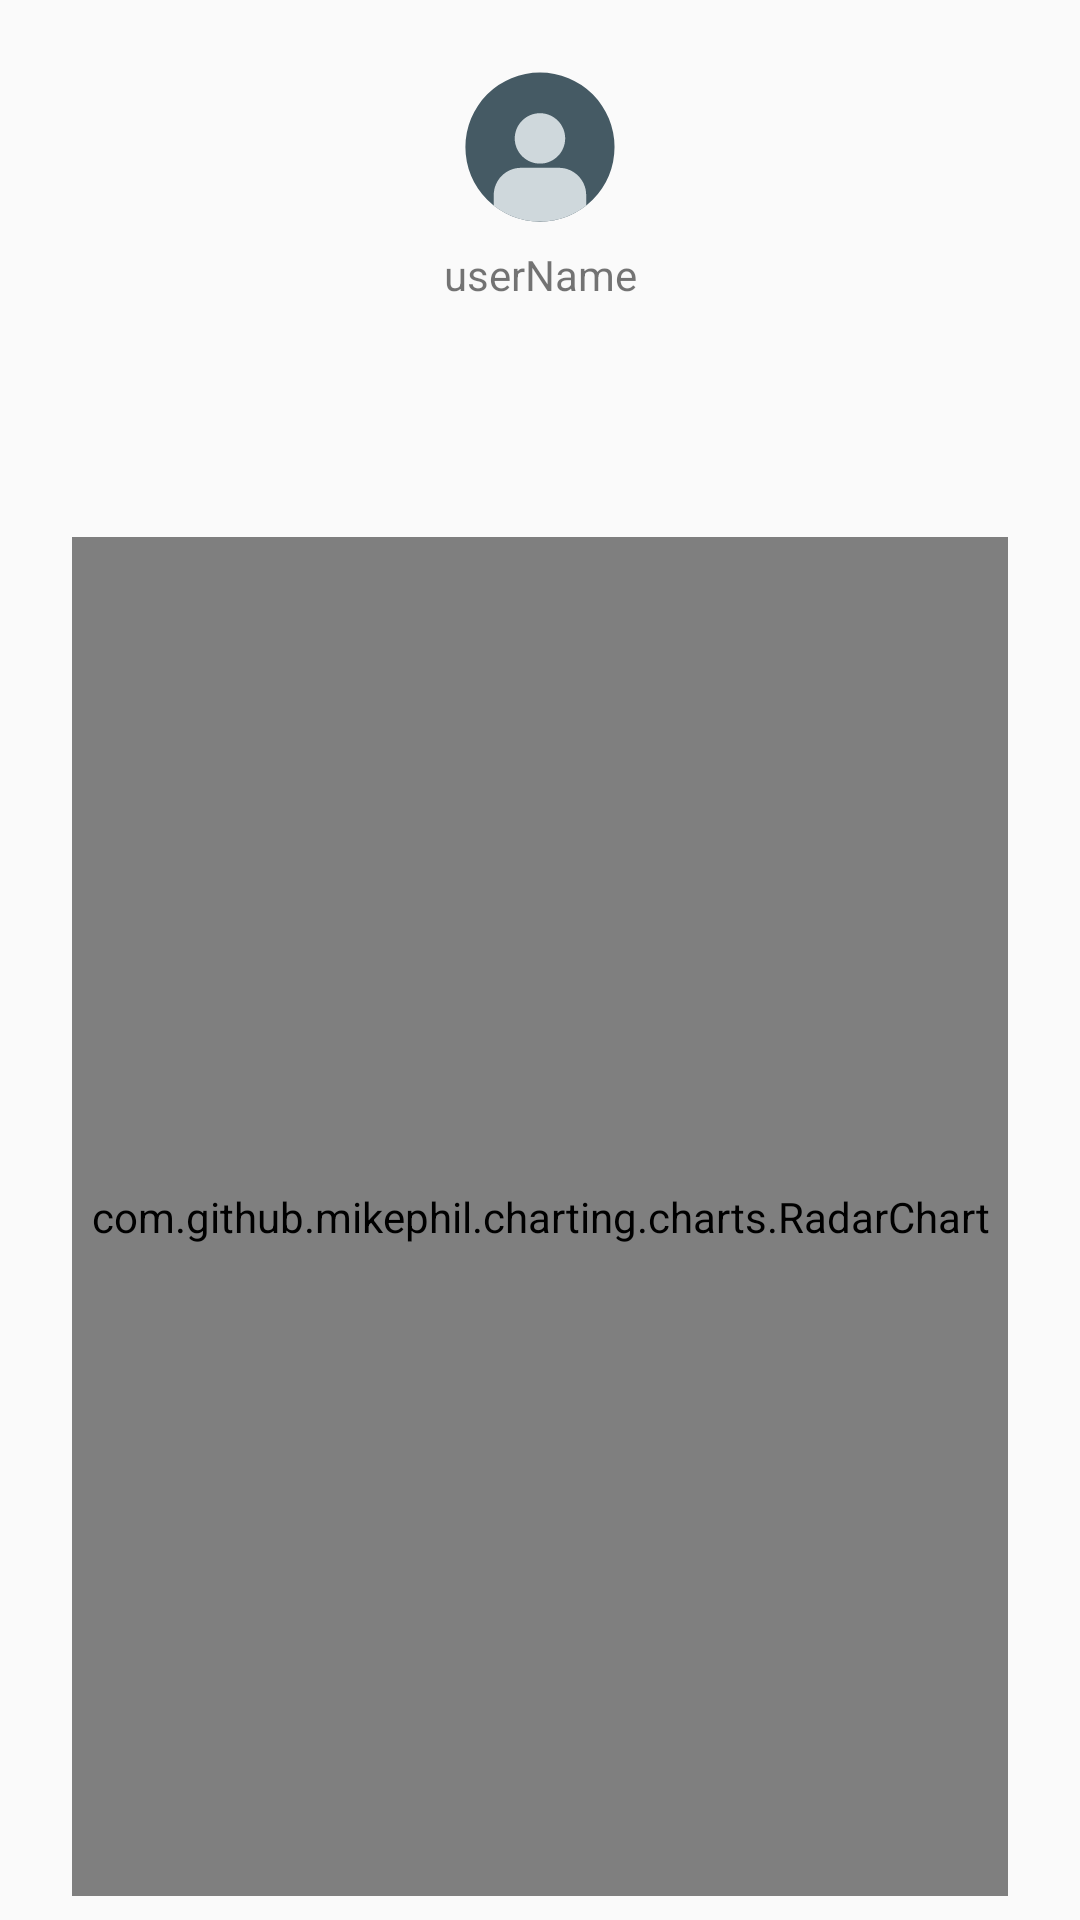

Where icons sit on this 1080*1920 app screen, as Rect(x1, y1, x2, y2):
account profile: Rect(465, 72, 615, 222)
